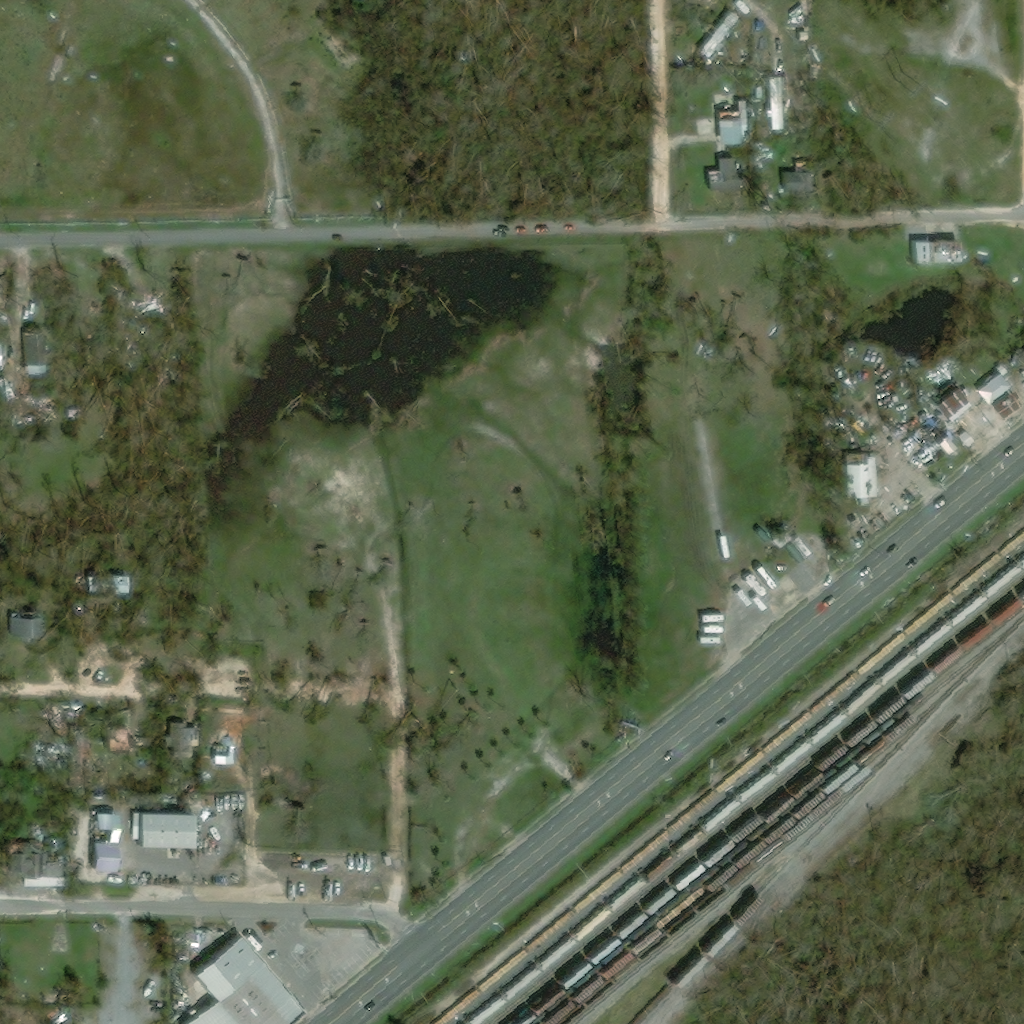destroyed: (909, 409, 947, 447), (183, 779, 198, 797)
major_damage: (8, 824, 70, 886), (89, 805, 117, 875), (909, 239, 961, 264), (716, 102, 740, 150), (99, 721, 126, 755)
minor_damage: (764, 515, 808, 564), (833, 453, 874, 503), (934, 383, 968, 422), (160, 720, 199, 750), (18, 325, 41, 375), (989, 391, 1017, 420), (706, 158, 732, 182)
no_damage: (183, 935, 306, 1023), (127, 811, 195, 848), (6, 609, 42, 642), (977, 372, 1010, 405), (765, 77, 783, 131), (937, 436, 957, 456), (964, 433, 978, 447)
